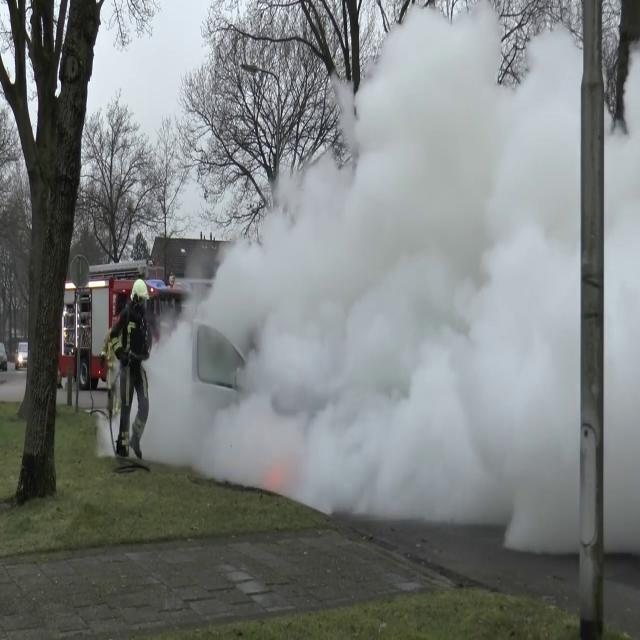Smoke: (148, 7, 584, 540), (604, 8, 640, 566)
